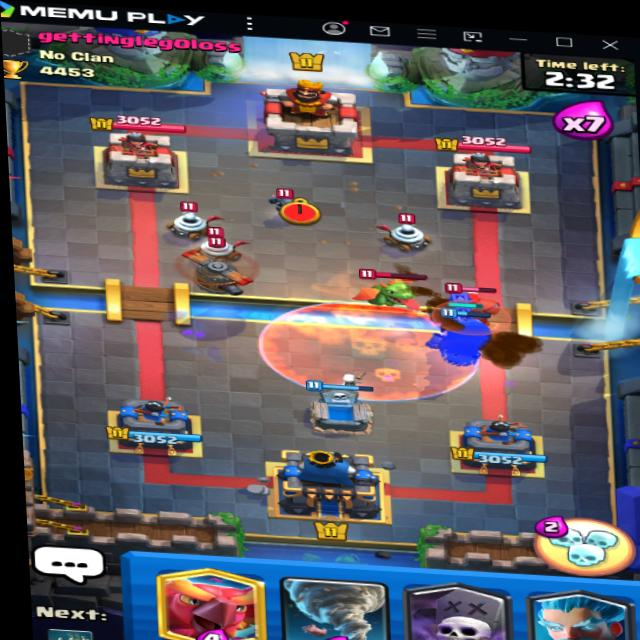baby-dragon: (348, 268, 439, 312)
flying-machine: (167, 216, 280, 283)
hunter: (435, 279, 512, 330)
mini-pekka: (247, 181, 325, 226)
zappie: (376, 210, 431, 252), (188, 223, 243, 262), (164, 204, 216, 243)
